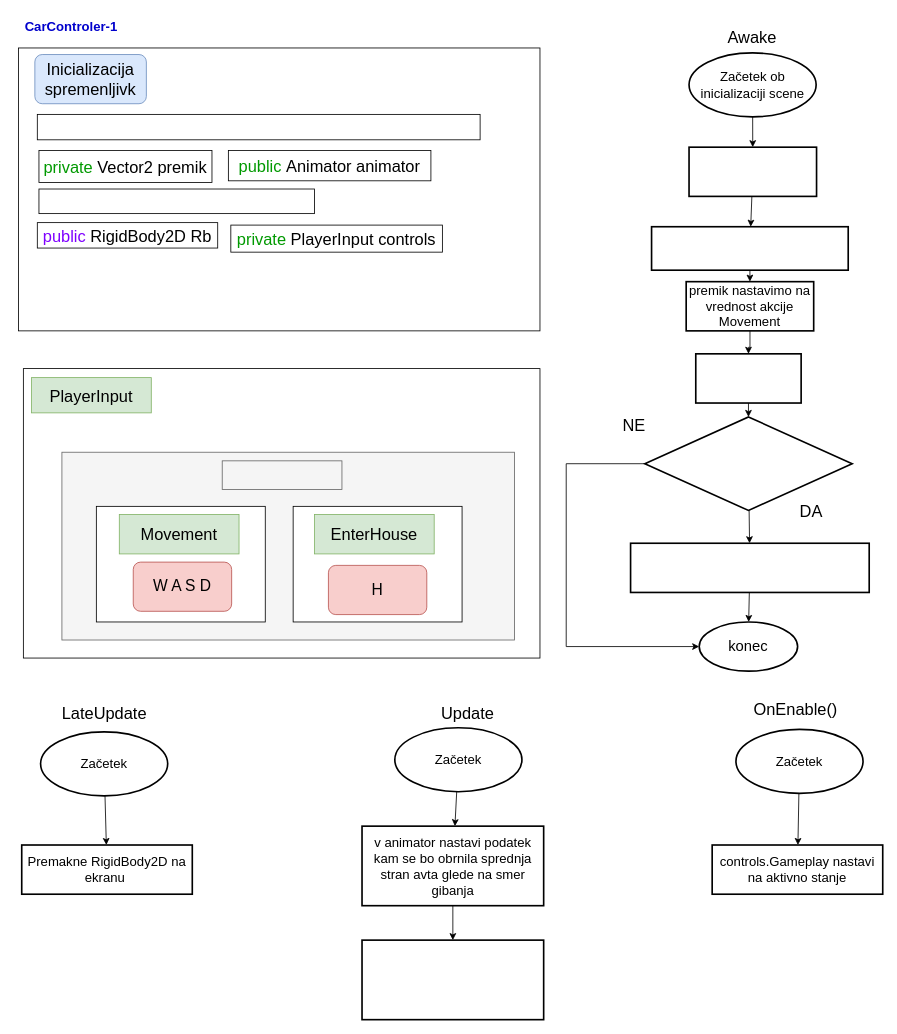
The diagram is 897 pixels wide and 1034 high, and some of its shapes have lost their labels. Here are the shapes that lost their labels. From the top down, the box of each, then its label:
(36, 114, 480, 140): private GeneralManagerField GeneralManagerFieldLink
(688, 146, 817, 197): controls nastavimo na novi PlayerInput
(38, 188, 314, 214): private float HitrostPremikanja = 5f
(650, 226, 849, 271): Ustvariš enosmerno povezavo z GeneralManagerField
(695, 353, 802, 403): premik resetiramo če ni vrednosti
(221, 460, 342, 490): Gameplay
(644, 416, 853, 511): sprožena akcija EnterHouse
(629, 542, 870, 593): pokliči GeneralManagerFieldLink. HwasPressed()
(361, 939, 544, 1020): Glede na to ali se avto giblje nastavi vrednost hitrosti v animator
